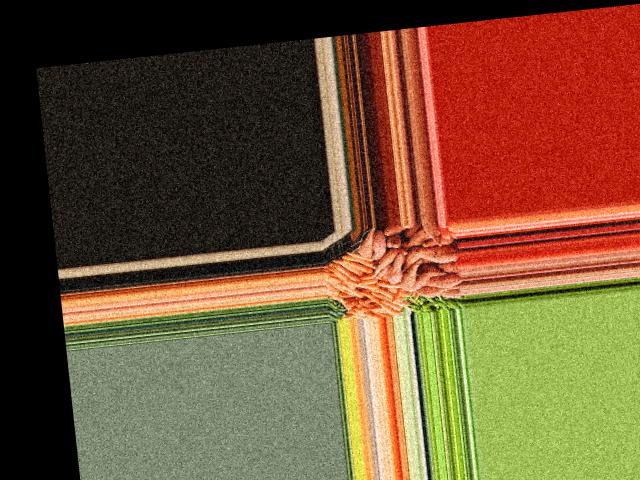carrot: (342, 257, 374, 275)
